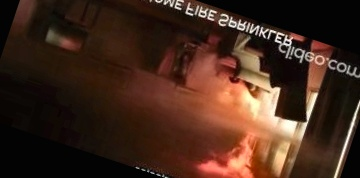fire: (182, 63, 293, 178)
